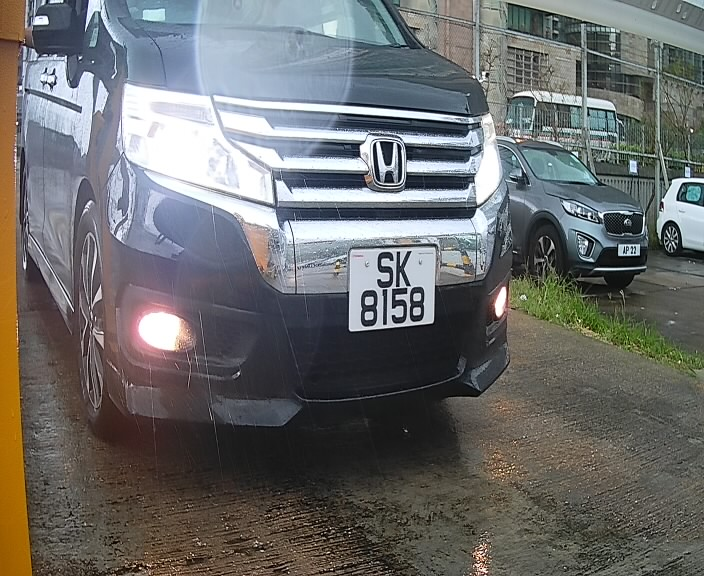License Plate: (343, 225, 451, 318)
